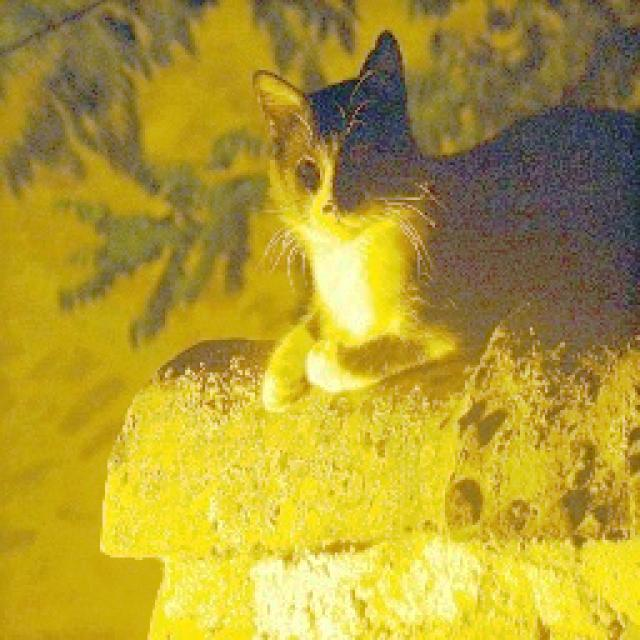cat: (240, 25, 640, 401)
